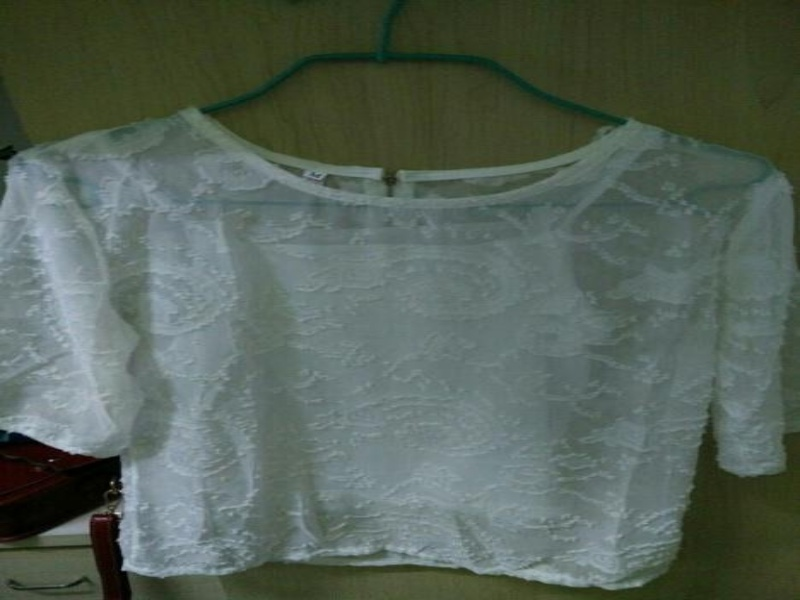long_sleeved_shirt: (0, 107, 798, 589)
